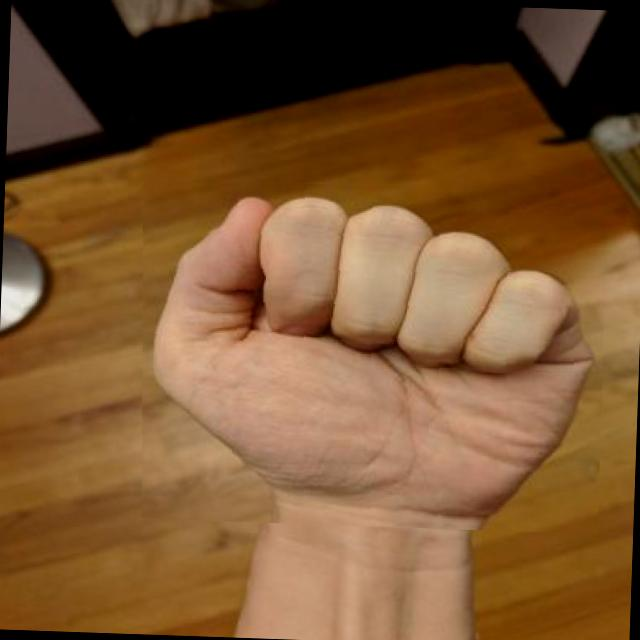A: (131, 174, 609, 534)
